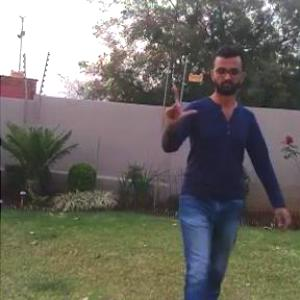land_hand: (163, 81, 201, 121)
